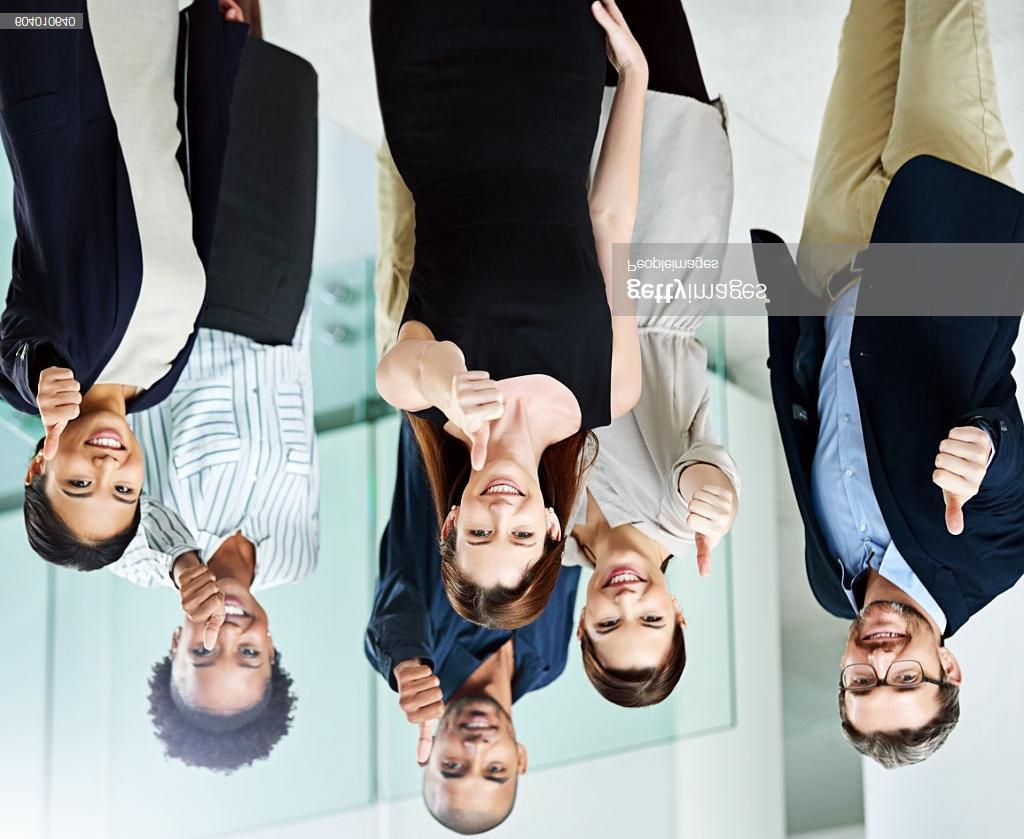thumbsdown: (932, 426, 990, 536), (451, 371, 505, 472), (398, 665, 445, 763), (686, 484, 734, 578), (36, 368, 82, 460), (178, 565, 224, 651)
